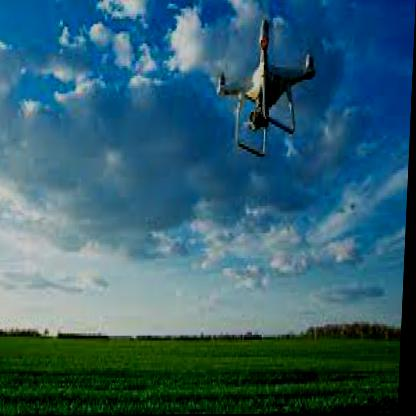UAS: (212, 19, 318, 157)
